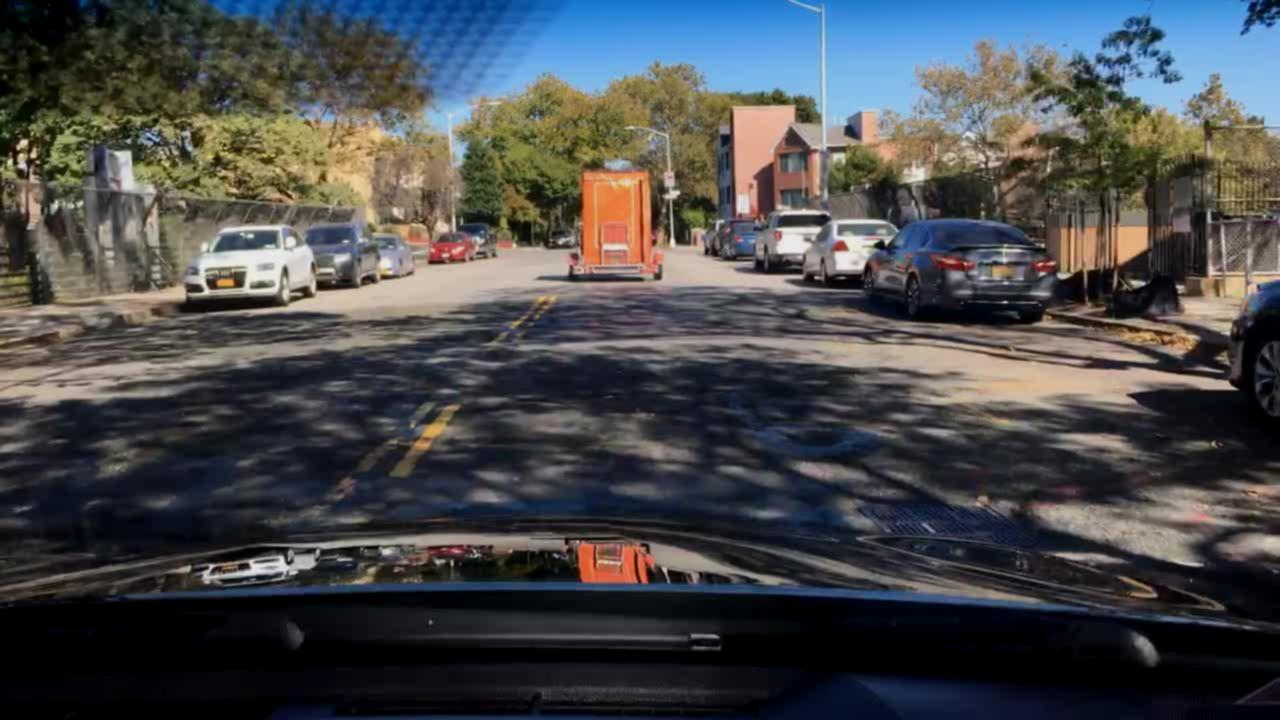Audi: (213, 266, 236, 280)
